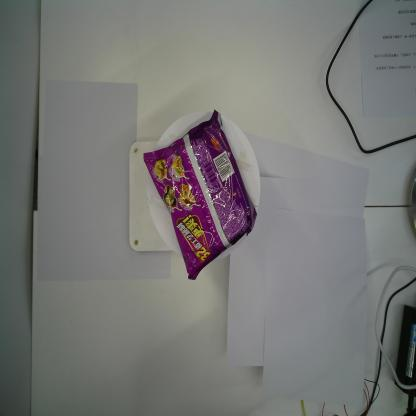Instant Noodles: (142, 108, 258, 281)
